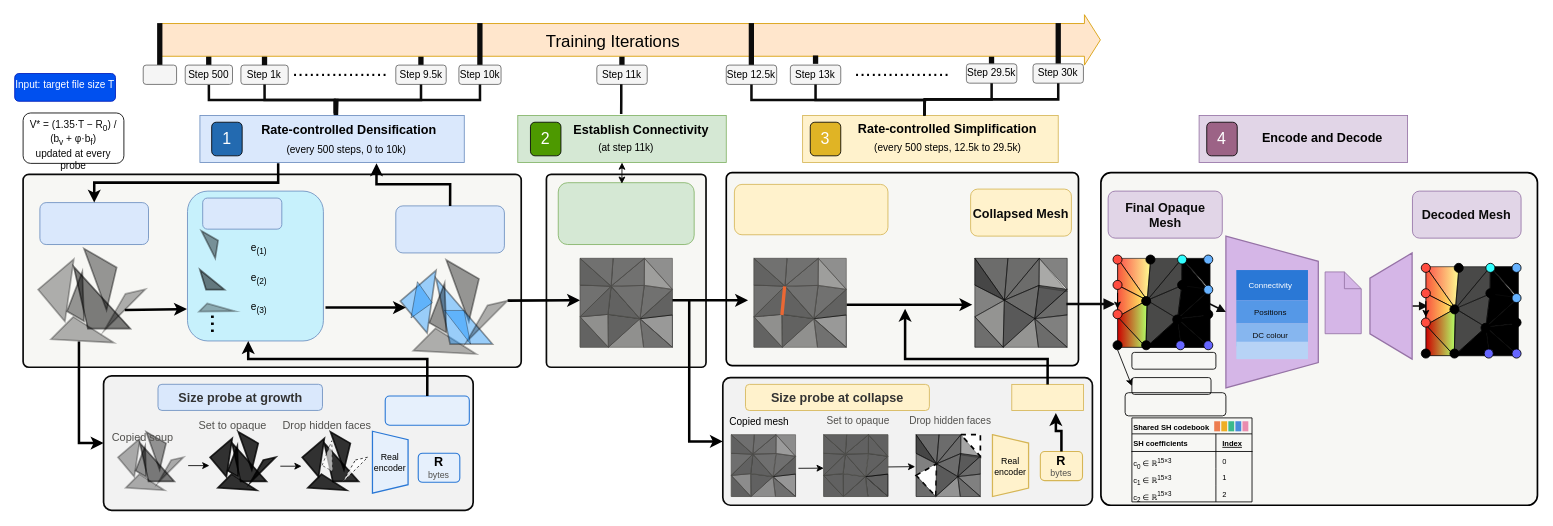
This 1553x526 diagram has some shape labels left out. Here are the shapes that lost their labels. From the top down, the centre of each, then its label:
At [159,74]: "Step 0".
At [94,223]: "semi-transparent triangle soup".
At [242,213]: "sort by error e t , split the top n".
At [449,229]: "split the n highest-error triangles".
At [625,213]: "Restricted Delaunay Triangulation".
At [811,209]: "Sort edges by cost c uv = e uv / ΔR uv ; collapse until ΣΔR uv ≥ E".
At [1342,302]: "One File".
At [1390,305]: "Decoder".
At [1173,360]: "faces (i, j, k)".
At [1272,350]: "SH indices".
At [1047,397]: "E = R − T".
At [1171,385]: "(x,y,z)".
At [1175,404]: "DC colour (r, g, b)".
At [426,410]: "b v , R 0 → V* → n splits".
